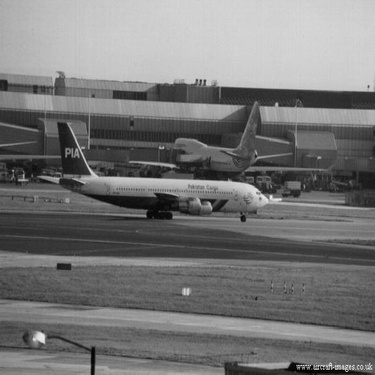airplane: (29, 98, 282, 238)
